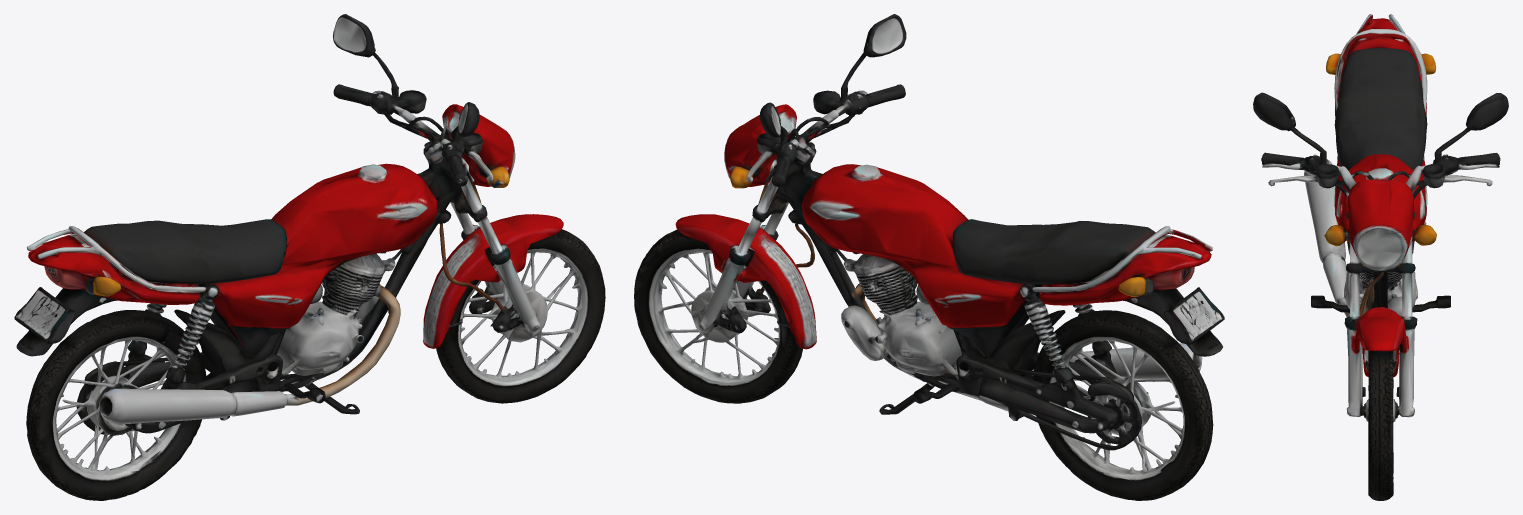
Rendered from moto-perso.glb.
The picture shows the model from 3 angles, left to right: view 1: azimuth 30°, elevation 25°; view 2: azimuth 150°, elevation 25°; view 3: azimuth 270°, elevation 25°; orthographic projection. The views are drawn at different scales.
Parts seen in each view (by area): view 1: tripo_node_be6df491-8222-466b-a037-93a4c237a1e6; view 2: tripo_node_be6df491-8222-466b-a037-93a4c237a1e6; view 3: tripo_node_be6df491-8222-466b-a037-93a4c237a1e6.
Part boxes in pixels (x1,y1,x2,y2): tripo_node_be6df491-8222-466b-a037-93a4c237a1e6: [14, 14, 605, 500]; tripo_node_be6df491-8222-466b-a037-93a4c237a1e6: [634, 14, 1224, 500]; tripo_node_be6df491-8222-466b-a037-93a4c237a1e6: [1253, 14, 1508, 500].
Bounding box in the file's own units: 0.9995 × 0.6001 × 0.401.
Materials: 1 (1 with a texture image).
